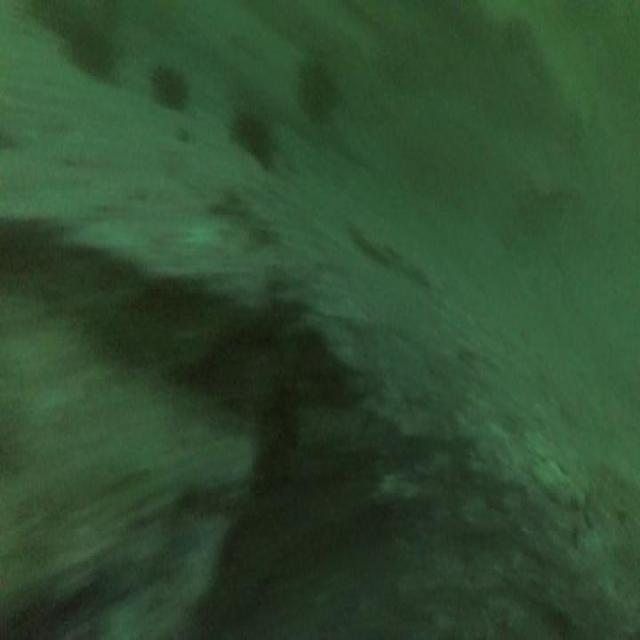echinus: (230, 101, 284, 185), (292, 52, 346, 133), (65, 19, 117, 85), (147, 58, 195, 118)
